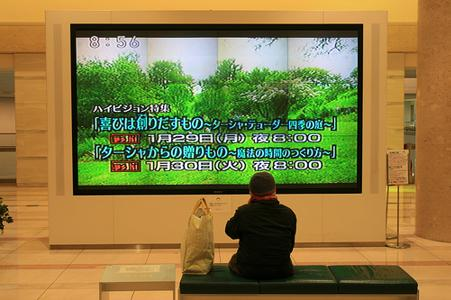person: (225, 172, 300, 284)
